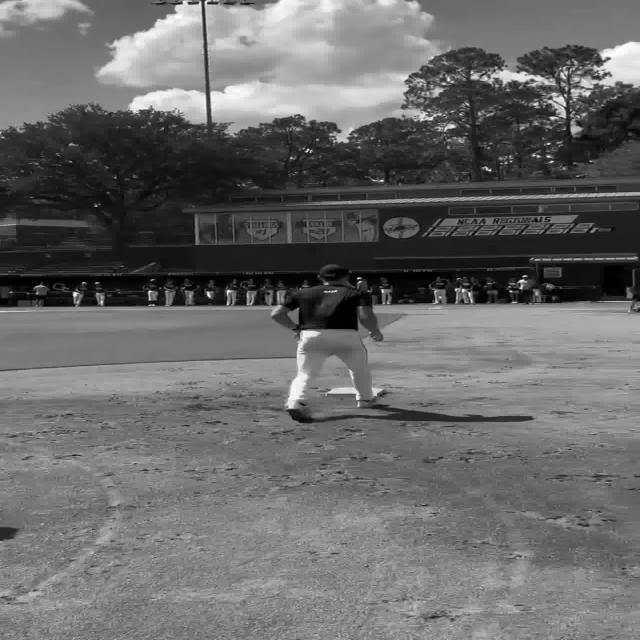base: (327, 388, 356, 395), (373, 388, 385, 396)
shoe: (287, 400, 313, 422), (358, 398, 378, 409)
